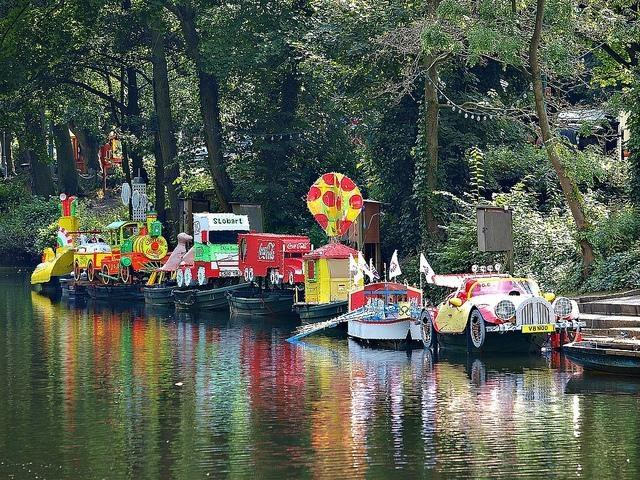car: (555, 106, 618, 155)
truck: (176, 211, 250, 288), (239, 232, 309, 291)
